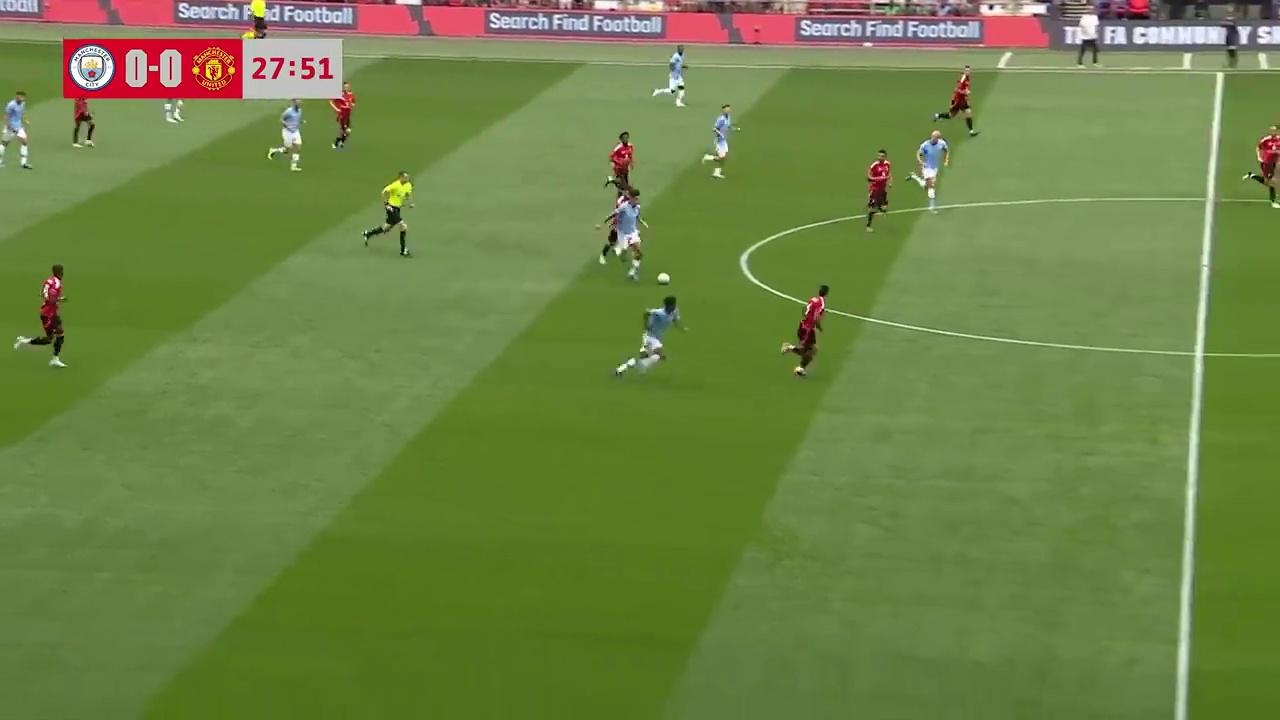ball: (655, 268, 671, 285)
player: (615, 293, 687, 379), (13, 264, 68, 368), (595, 189, 649, 276), (780, 284, 828, 380), (1243, 122, 1280, 208), (935, 64, 979, 136), (913, 129, 950, 213), (701, 103, 739, 180), (0, 89, 34, 172), (614, 187, 650, 265), (269, 99, 305, 171), (864, 149, 893, 234), (655, 45, 689, 107), (330, 82, 356, 150), (607, 130, 635, 193), (68, 86, 96, 147)
referee: (363, 171, 414, 256)
